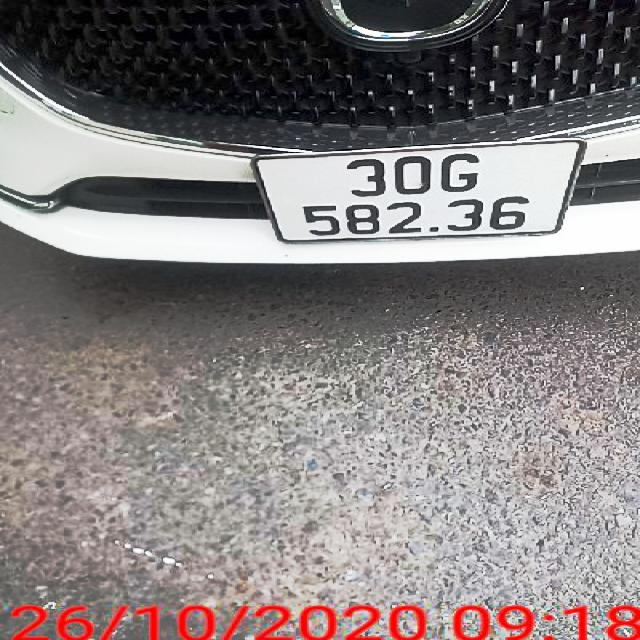license_plate: (259, 143, 584, 240)
